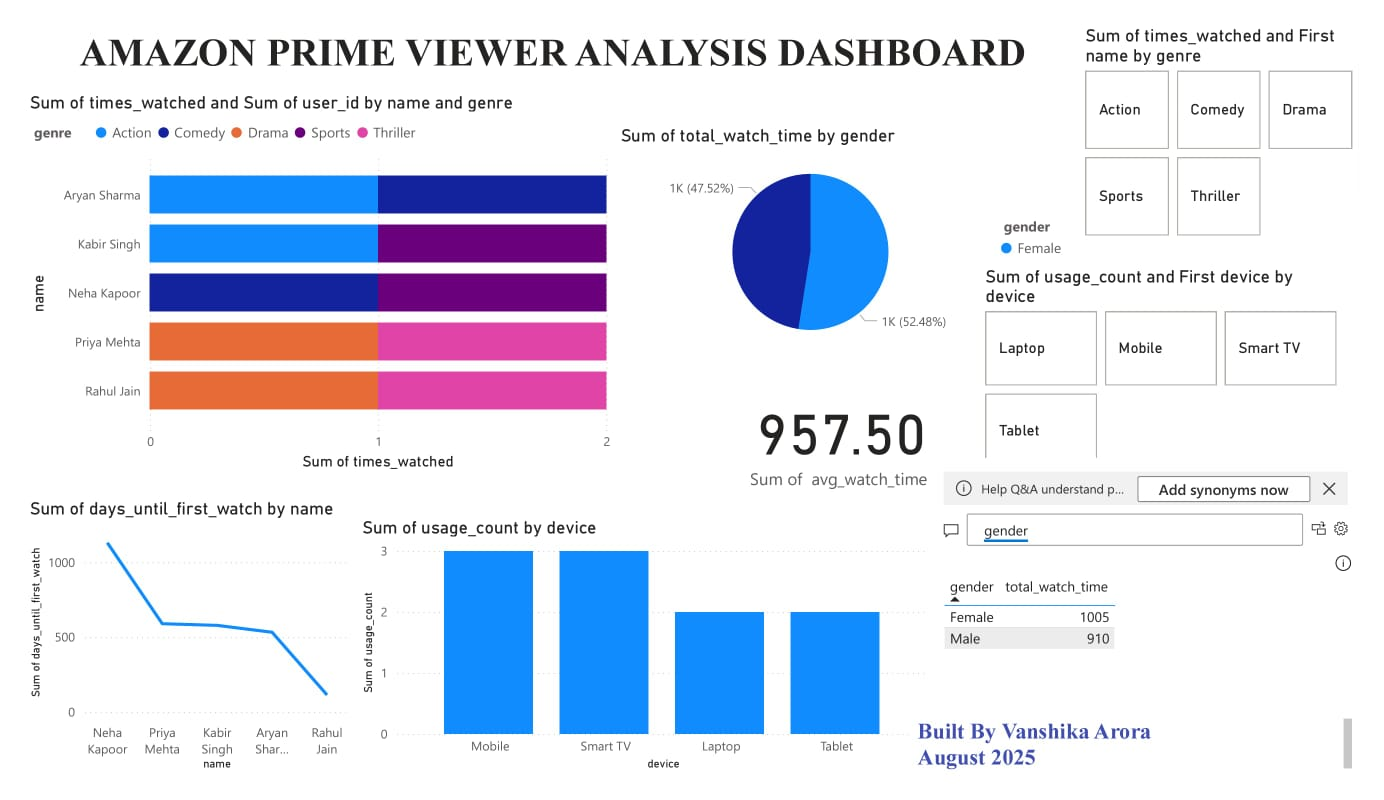

The dashboard page shown, as its layout file describes it:
{"tool":"powerbi","page":{"name":"Page 1","canvas":[1280,720],"ordinal":0},"visuals":[{"type":"card","fields":{"Values":["avg watch time. avg_watch_time "]},"box":[553.7,289.1,459.2,215.4],"z":0},{"type":"pieChart","fields":{"Category":["gender. gender "],"Y":["gender. total_watch_time "]},"box":[566.9,96.4,446,224.9],"z":1000},{"type":"textbox","box":[0,0,1012.9,77.5],"z":2000},{"type":"barChart","fields":{"Y":["genre prefrences. times_watched "],"Category":["genre prefrences. name         "],"Series":["genre prefrences. genre    "]},"box":[0,64.3,566.9,366.6],"z":3000},{"type":"lineChart","fields":{"Y":["retention. days_until_first_watch "],"Category":["retention. name         "]},"box":[0,453.5,319.4,266.5],"z":4000},{"type":"clusteredColumnChart","fields":{"Category":["usage count. device   "],"Y":["usage count. usage_count "]},"box":[319.4,472.4,553.7,247.6],"z":5000},{"type":"advancedSlicerVisual","fields":{"Values":["usage count. device   "]},"box":[916.5,230.6,349.6,200.3],"z":6000},{"type":"advancedSlicerVisual","fields":{"Values":["genre prefrences. genre    "]},"box":[1012.9,0,266.5,207.9],"z":7000},{"type":"qnaVisual","box":[873.1,415.8,406.3,245.7],"z":7001},{"type":"textbox","box":[852.3,661.4,427.1,58.6],"z":7002}]}

Visuals, with their boxes on the page's 1280x720 design canvas (x1, y1, x2, y2). These are canvas units, not pixel positions in the 1384x800 screenshot, which may show the page scaled, cropped or inside an application window:
card - avg watch time. avg_watch_time : (x1=554, y1=289, x2=1013, y2=504)
pieChart - gender. gender  x gender. total_watch_time : (x1=567, y1=96, x2=1013, y2=321)
textbox: (x1=0, y1=0, x2=1013, y2=78)
barChart - genre prefrences. times_watched  x genre prefrences. name         : (x1=0, y1=64, x2=567, y2=431)
lineChart - retention. days_until_first_watch  x retention. name         : (x1=0, y1=454, x2=319, y2=720)
clusteredColumnChart - usage count. device    x usage count. usage_count : (x1=319, y1=472, x2=873, y2=720)
advancedSlicerVisual - usage count. device   : (x1=916, y1=231, x2=1266, y2=431)
advancedSlicerVisual - genre prefrences. genre    : (x1=1013, y1=0, x2=1279, y2=208)
qnaVisual: (x1=873, y1=416, x2=1279, y2=662)
textbox: (x1=852, y1=661, x2=1279, y2=720)
